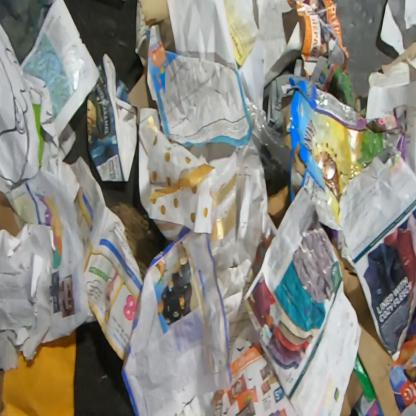cardboard: (267, 75, 407, 268), (330, 233, 402, 415), (85, 52, 138, 182), (112, 202, 174, 283), (128, 72, 158, 126), (339, 370, 365, 415), (0, 189, 21, 238)
rigid_plastic: (245, 96, 292, 172)
